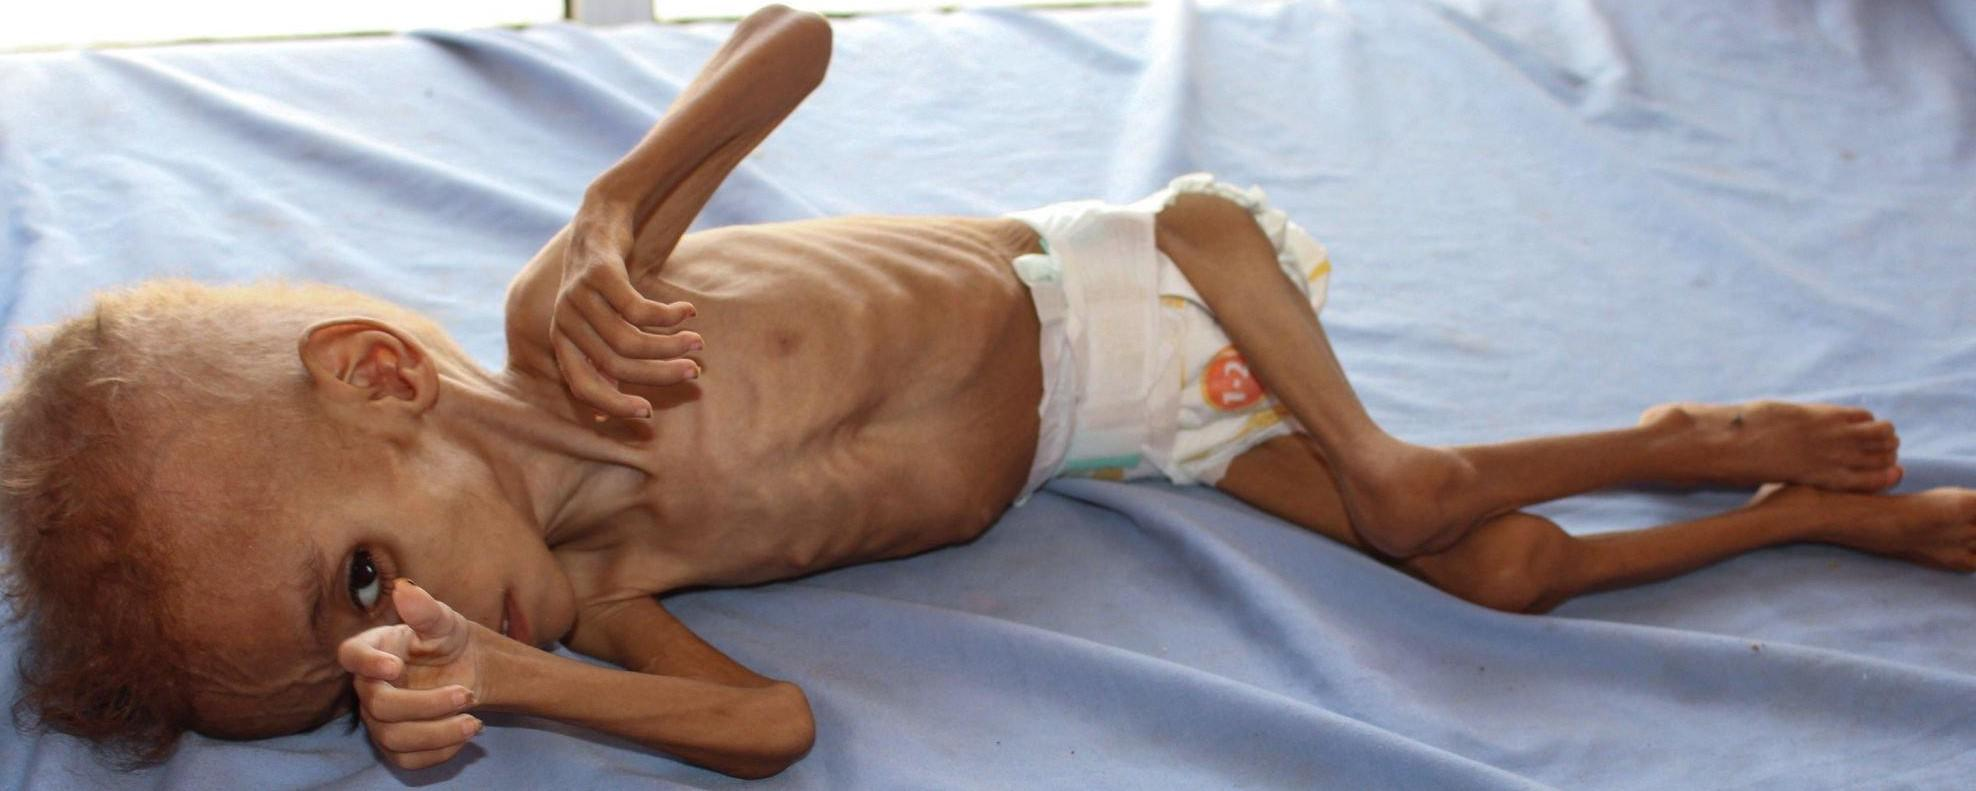Stunting: (71, 333, 582, 791)
